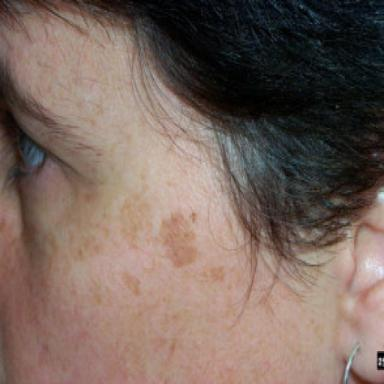Melanoma: (160, 211, 198, 267)
